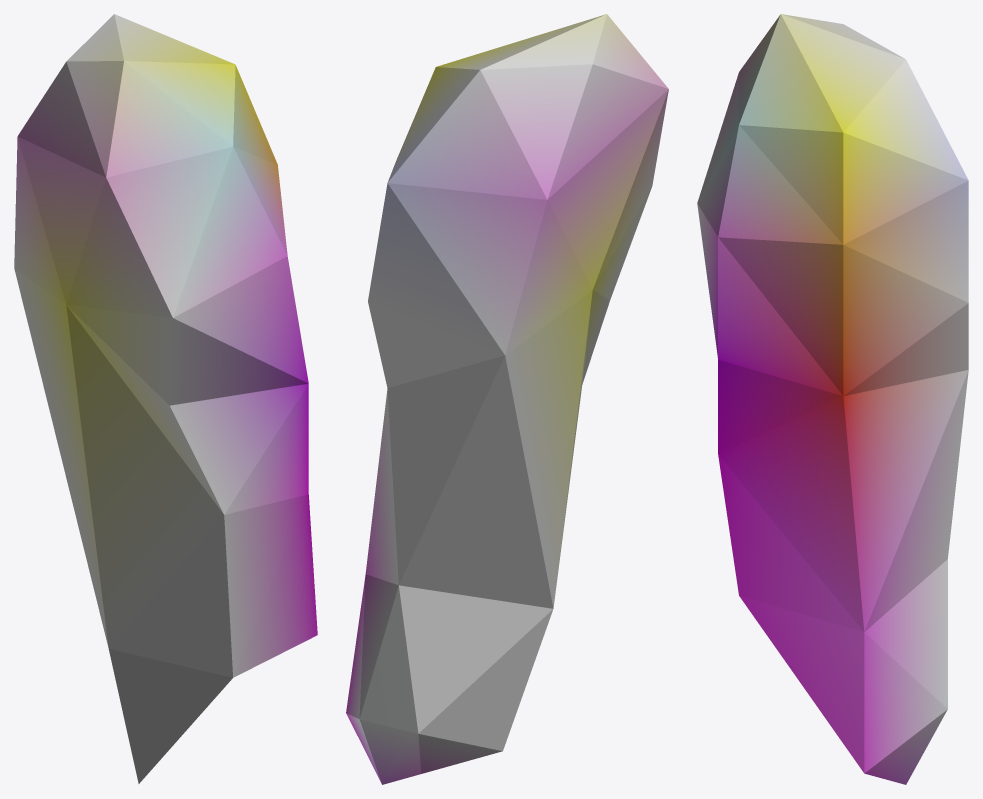
3 renders of one model, left to right at view 1: azimuth 30°, elevation 25°; view 2: azimuth 150°, elevation 25°; view 3: azimuth 270°, elevation 25°, orthographic. The views are drawn at different scales.
Visible parts, largest first — view 1: model_1173; view 2: model_1173; view 3: model_1173.
Boxes of the visible parts, x1=… form: model_1173: x1=14, y1=14, x2=317, y2=783; model_1173: x1=346, y1=14, x2=668, y2=784; model_1173: x1=697, y1=14, x2=968, y2=784.
Bounding box in the file's own units: 13 × 37 × 13.
